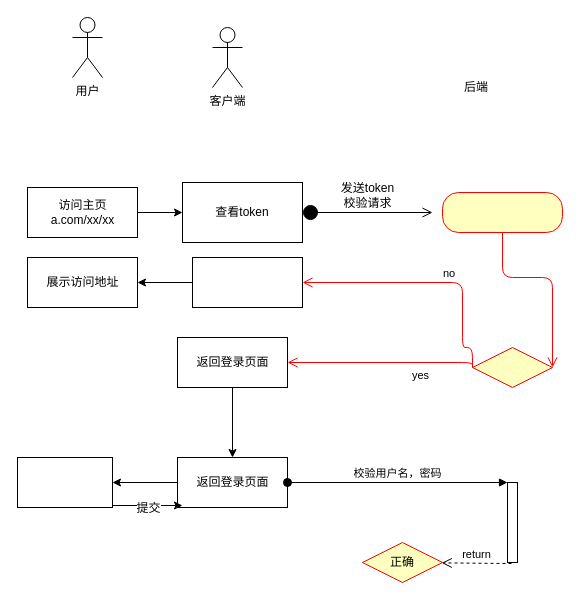
This 580x600 diagram has some shape labels left out. Here are the shapes that lost their labels. From the top down, the centre of each, then its label:
At (502,212): "检查token".
At (247,282): "渲染a.com 自动帮忙跳转到 /xx/xx地址".
At (512,367): "是否过期".
At (64,482): "输入账号密码".
